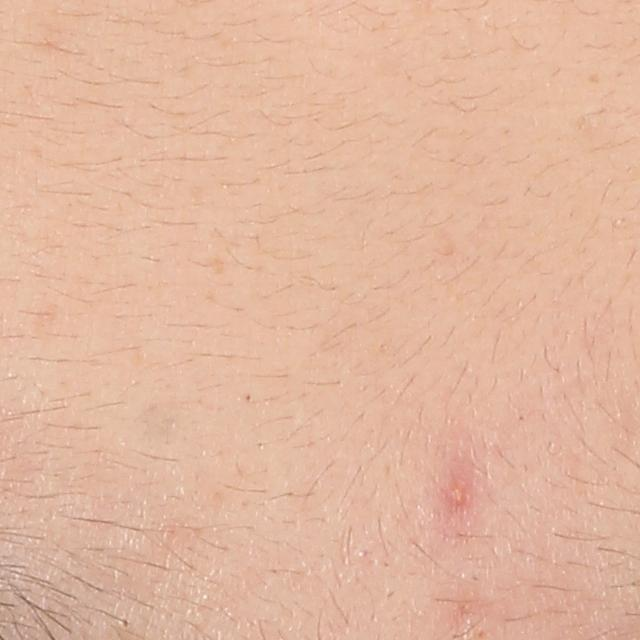comedo: (118, 616, 137, 635)
papule: (436, 475, 469, 517)
